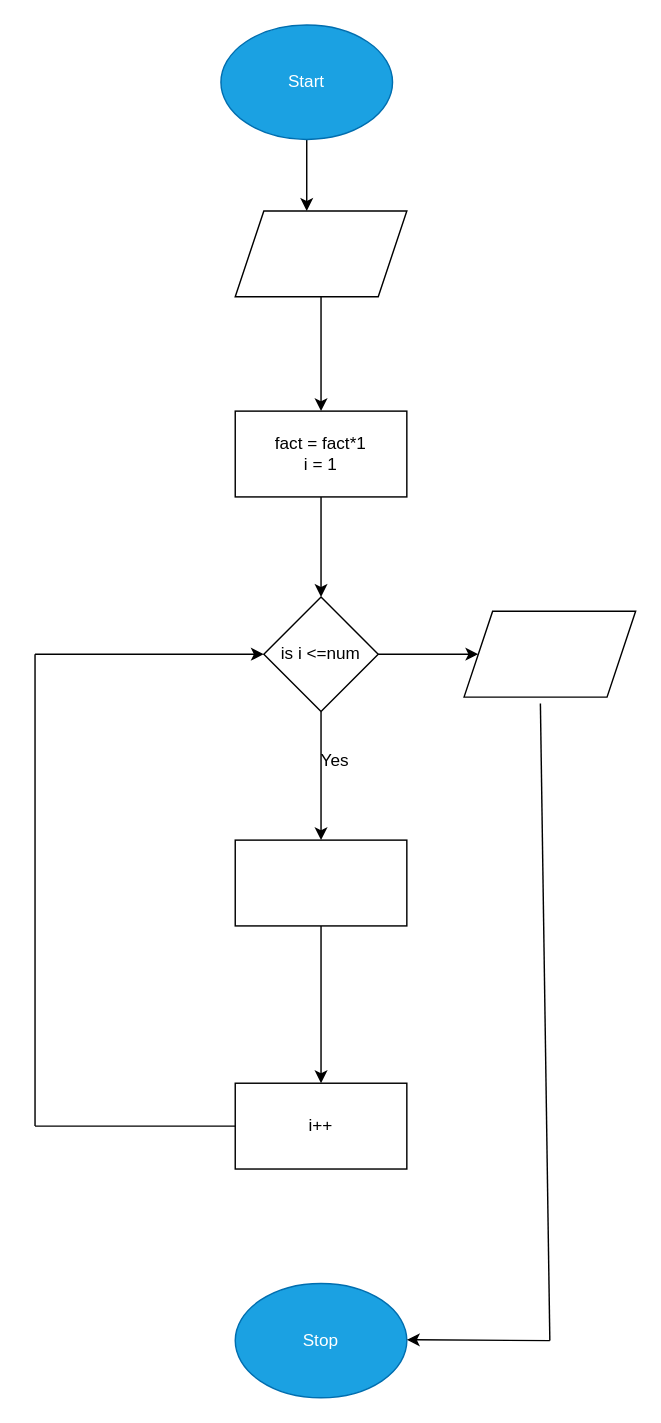
This 661x1423 diagram has some shape labels left out. Here are the shapes that lost their labels. From the top down, the centre of each, then its label:
pixel 320 253: Read n
pixel 549 653: print fact
pixel 320 882: fact = fact * i
